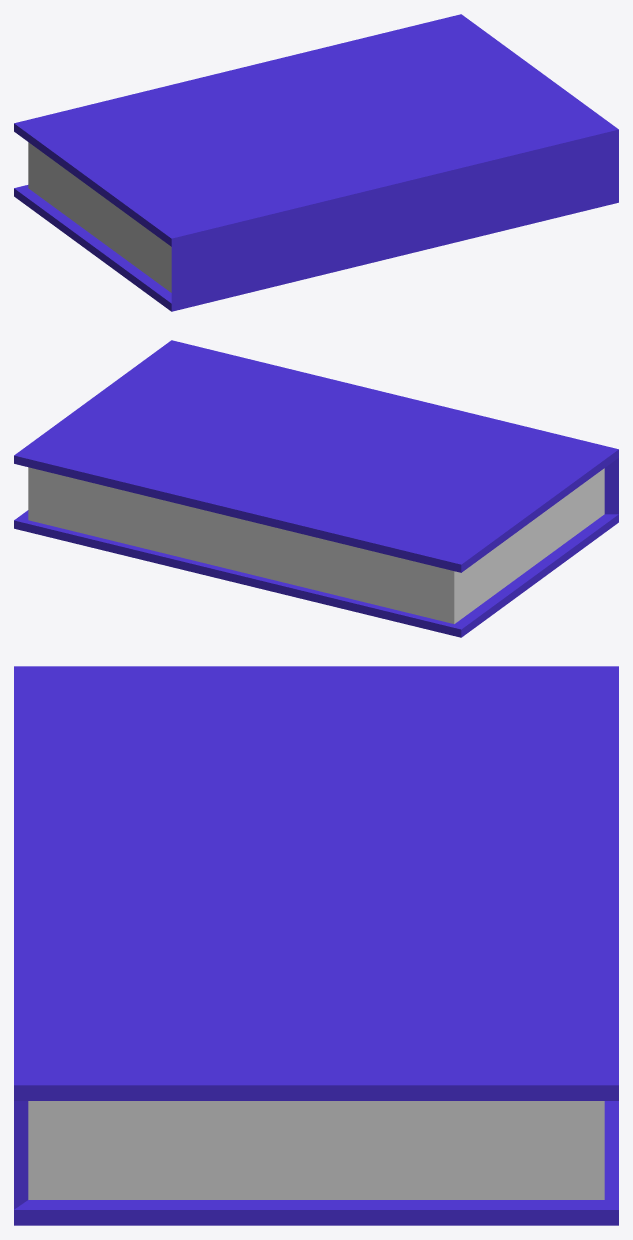
File: book2-transformed.glb
3 renders of one model, top to bottom at view 1: azimuth 30°, elevation 25°; view 2: azimuth 150°, elevation 25°; view 3: azimuth 270°, elevation 25°, orthographic. The views are drawn at different scales.
Parts seen in each view (by area): view 1: book.001; view 2: book.001; view 3: book.001.
Part boxes in pixels (<box>): book.001: <box>14,14,618,311</box>; book.001: <box>14,340,618,637</box>; book.001: <box>14,666,618,1225</box>.
Bounding box in the file's own units: 5.47 × 0.8548 × 3.34.
